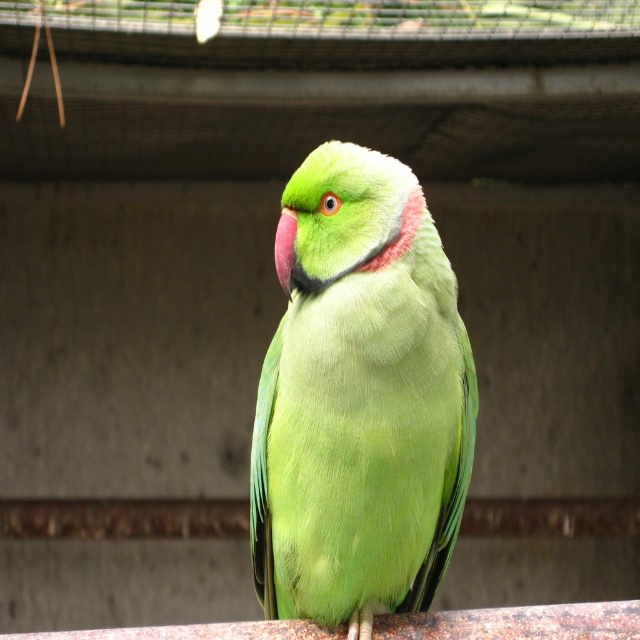Parrot: (250, 139, 479, 640)
